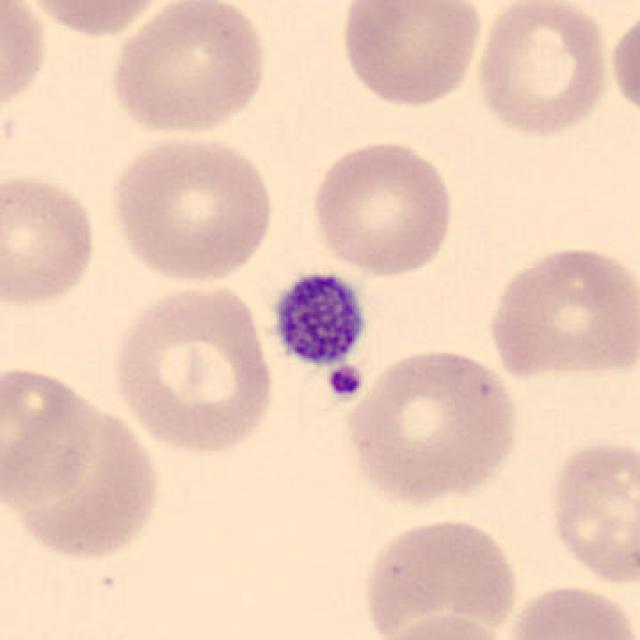Platelets: (265, 266, 371, 372), (324, 361, 368, 404)
RBC: (4, 373, 167, 568), (107, 277, 279, 458), (341, 344, 523, 509), (105, 130, 279, 288), (105, 0, 272, 139), (482, 240, 636, 382), (307, 136, 458, 278), (357, 513, 523, 638), (471, 0, 613, 139), (336, 0, 485, 111), (0, 363, 103, 508), (544, 434, 638, 590), (0, 167, 101, 312), (502, 580, 638, 640), (16, 0, 181, 41), (0, 0, 50, 123), (366, 610, 524, 640), (606, 5, 638, 125)
